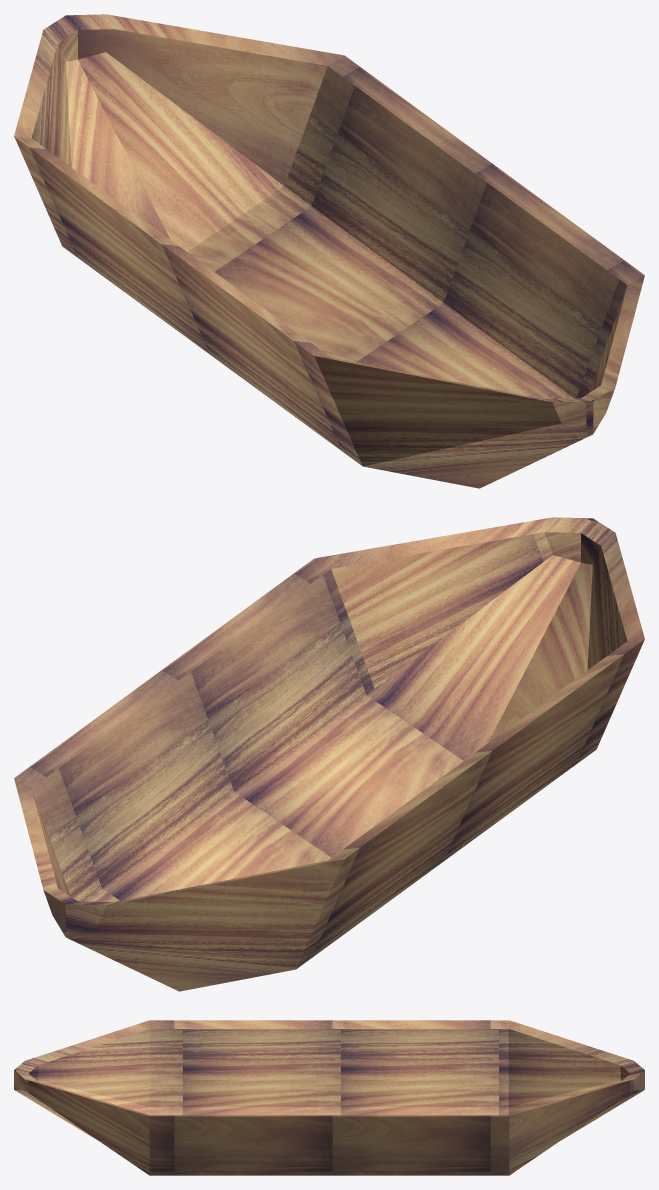
Rendered from ship.fbx.
The picture shows the model from 3 angles, top to bottom: view 1: azimuth 30°, elevation 25°; view 2: azimuth 150°, elevation 25°; view 3: azimuth 270°, elevation 25°; orthographic projection. The views are drawn at different scales.
Visible parts, largest first — view 1: 圓柱體; view 2: 圓柱體; view 3: 圓柱體.
Boxes of the visible parts, x1,y1,x2,y2 form: 圓柱體: [14, 14, 644, 488]; 圓柱體: [14, 517, 644, 991]; 圓柱體: [14, 1020, 644, 1175].
Bounding box in the file's own units: 200 × 100 × 553.
